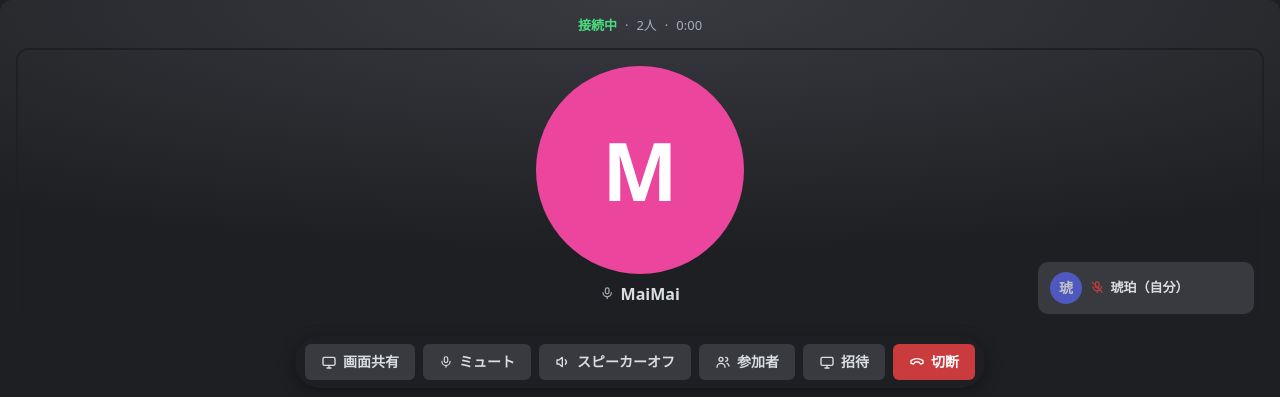
通話ステージ（DM通話とVCの共通部品） › 参加者一覧を開くと名前とミュート状態が出る
Click the button with aria-label "参加者一覧".
click(747, 362)  # box x1=699 y1=344 x2=795 y2=380
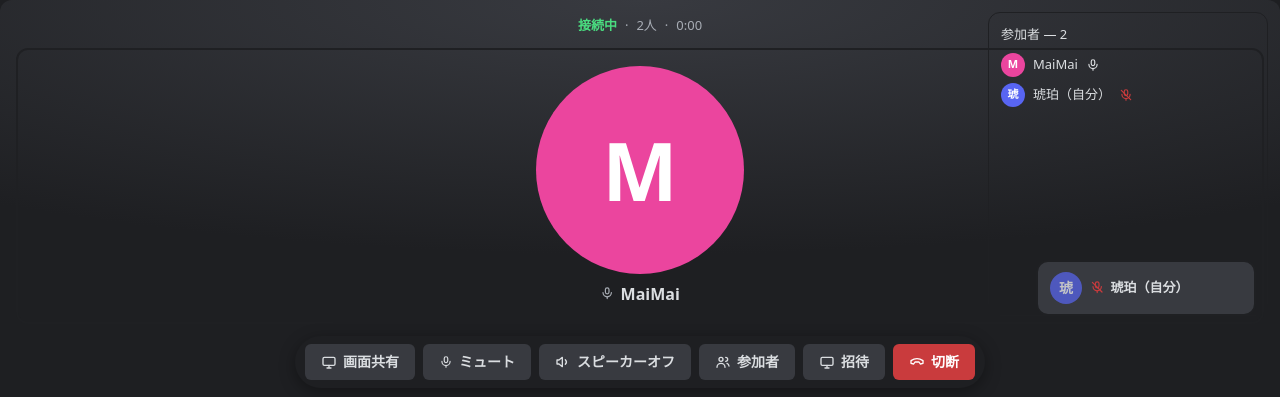
Check: the element named "参加者一覧" shows "MaiMai", box x1=1033 y1=55 x2=1078 y2=73
Check: the element named "参加者一覧" shows "琥珀（自分）", box x1=1033 y1=85 x2=1111 y2=103
